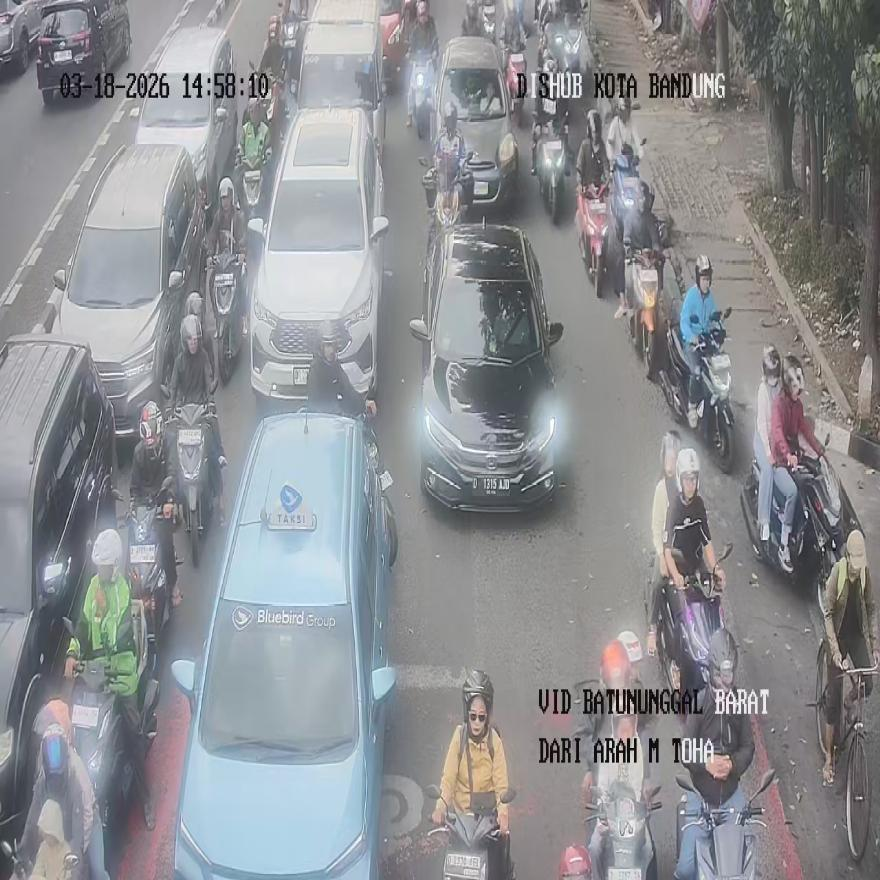Mobil: (170, 408, 396, 878), (0, 335, 119, 854), (49, 142, 203, 440), (409, 221, 562, 512), (246, 105, 388, 406), (135, 24, 236, 224), (294, 0, 386, 154), (34, 0, 132, 104)
Motor: (61, 604, 160, 834), (571, 680, 661, 878), (810, 644, 878, 862), (743, 440, 842, 588), (654, 544, 731, 706), (662, 308, 734, 473), (674, 766, 776, 880), (426, 786, 516, 880), (125, 492, 180, 640), (173, 404, 222, 568), (584, 777, 661, 880), (206, 248, 245, 386), (605, 165, 642, 297), (626, 250, 662, 376), (576, 181, 610, 297), (532, 122, 568, 222), (407, 49, 436, 139), (236, 144, 270, 213), (278, 14, 304, 96), (505, 45, 527, 127), (480, 1, 498, 42)
